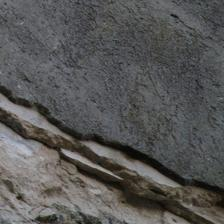Crack: (62, 49, 158, 159), (160, 111, 224, 185)
